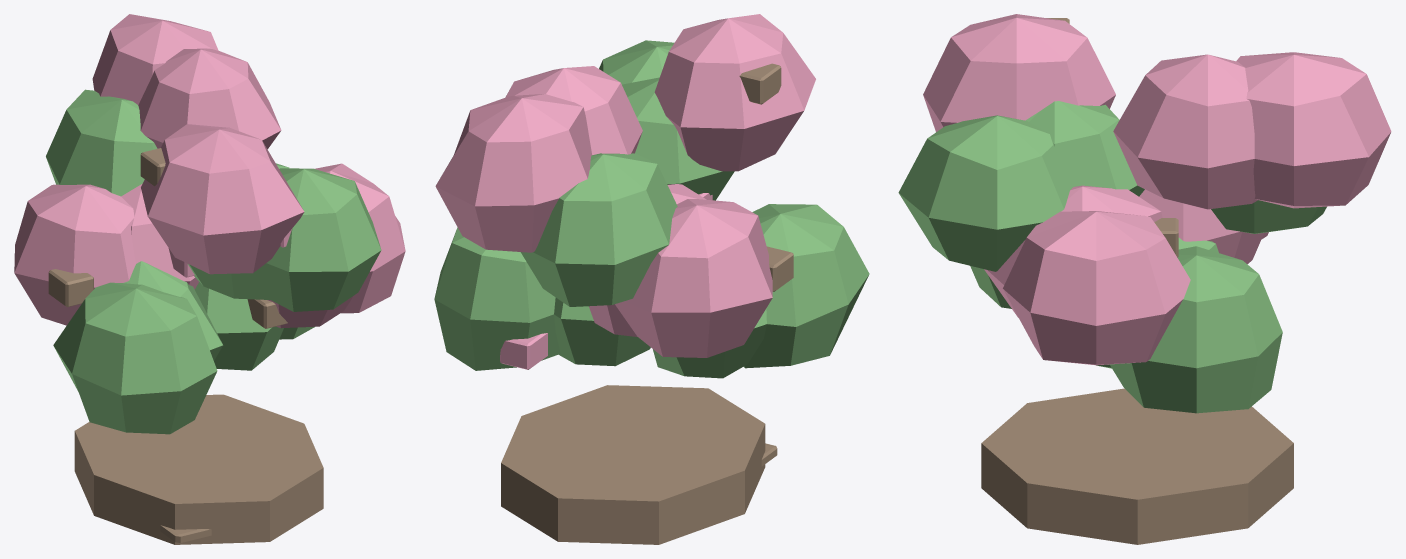
File: b08_flowering_hosta.glb
3 views of the same model, side by side, from view 1: azimuth 30°, elevation 25°; view 2: azimuth 150°, elevation 25°; view 3: azimuth 270°, elevation 25° (orthographic). The views are drawn at different scales.
Visible parts, largest first — view 1: b08_flowering_hosta; view 2: b08_flowering_hosta; view 3: b08_flowering_hosta.
Boxes of the visible parts, x1,y1,x2,y2 form: b08_flowering_hosta: (14, 14, 405, 544); b08_flowering_hosta: (434, 14, 869, 544); b08_flowering_hosta: (898, 14, 1391, 544).
Size of the model in its own units: 0.802 by 0.903 by 0.893.
